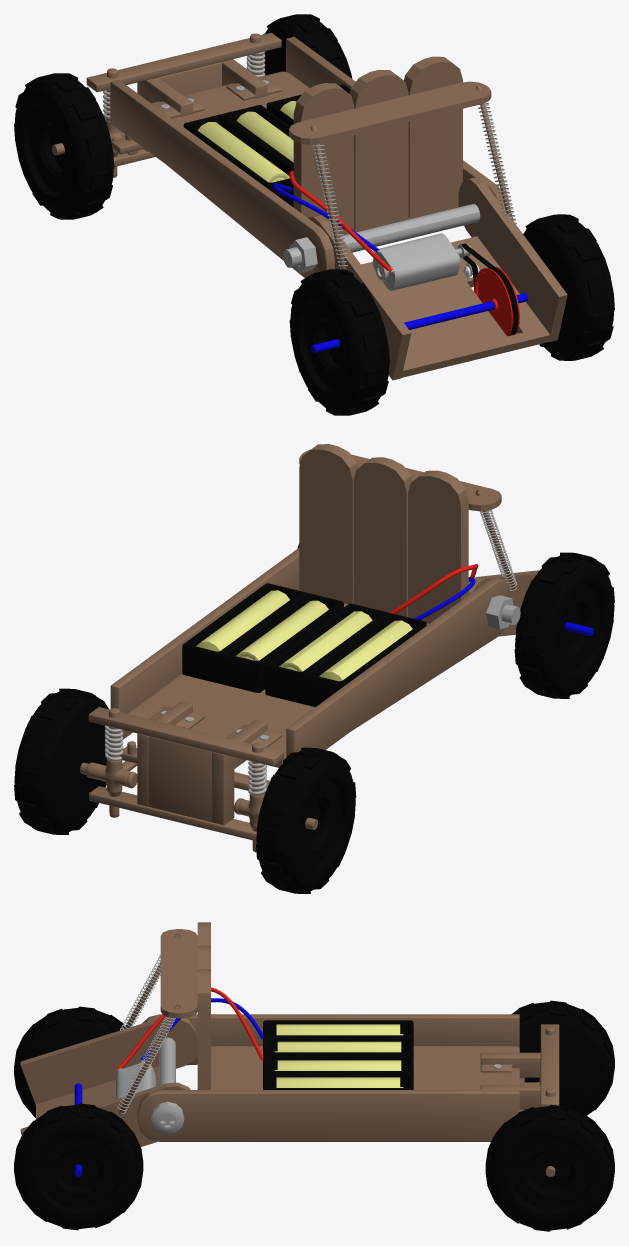
Rendered from Monster_rc.fbx.
3 renders of one model, top to bottom at view 1: azimuth 30°, elevation 25°; view 2: azimuth 150°, elevation 25°; view 3: azimuth 270°, elevation 25°, orthographic. The views are drawn at different scales.
Parts seen in each view (by area): view 1: Cylinder.004, Cube.003, Cylinder.005, Cube, Cube.004, Cube.001, Cube.008, Cube.005, Cube.009, Cube.013, Cube.010, Cylinder (+13 smaller); view 2: Cube.003, Cylinder.005, Cube, Cube.009, Cylinder.004, Cube.002, Cube.012, Cube.010, Cylinder.007, Cylinder.008, Cube.013, Cylinder.006 (+5 smaller); view 3: Cube, Cylinder.005, Cylinder.004, Cube.001, Cube.002, Cube.009, Cube.008, Cylinder.007, Cylinder.008, Cube.003, Cube.010, Cylinder (+6 smaller).
Boxes of the visible parts, x1,y1,x2,y2 form: Cylinder.004: (289, 214, 614, 415); Cube.003: (293, 56, 462, 234); Cylinder.005: (14, 14, 352, 219); Cube: (110, 37, 505, 277); Cube.004: (361, 236, 550, 377); Cube.001: (308, 177, 567, 380); Cube.008: (289, 81, 491, 144); Cube.005: (372, 233, 471, 290); Cube.009: (183, 84, 350, 207); Cube.013: (86, 32, 281, 92); Cube.010: (137, 59, 282, 151); Cylinder: (283, 204, 509, 267); Cube.003: (299, 444, 468, 623); Cylinder.005: (14, 688, 356, 893); Cube: (110, 548, 510, 756); Cube.009: (182, 583, 426, 706); Cylinder.004: (297, 543, 614, 698); Cube.002: (127, 603, 428, 767); Cube.012: (149, 736, 211, 822); Cube.010: (137, 701, 282, 825); Cylinder.007: (196, 590, 412, 681); Cylinder.008: (235, 600, 372, 671); Cube.013: (88, 707, 283, 766); Cylinder.006: (80, 708, 317, 852); Cube: (137, 1014, 519, 1141); Cylinder.005: (485, 1000, 614, 1231); Cylinder.004: (14, 1006, 143, 1230); Cube.001: (20, 1016, 197, 1146); Cube.002: (211, 1046, 519, 1089); Cube.009: (263, 1020, 413, 1089); Cube.008: (160, 929, 197, 1018); Cylinder.007: (276, 1024, 403, 1087); Cylinder.008: (274, 1041, 401, 1070); Cube.003: (197, 922, 210, 1089); Cube.010: (480, 1052, 540, 1109); Cylinder: (151, 1037, 184, 1134).
Bounding box in the file's own units: 100 × 87.75 × 211.
